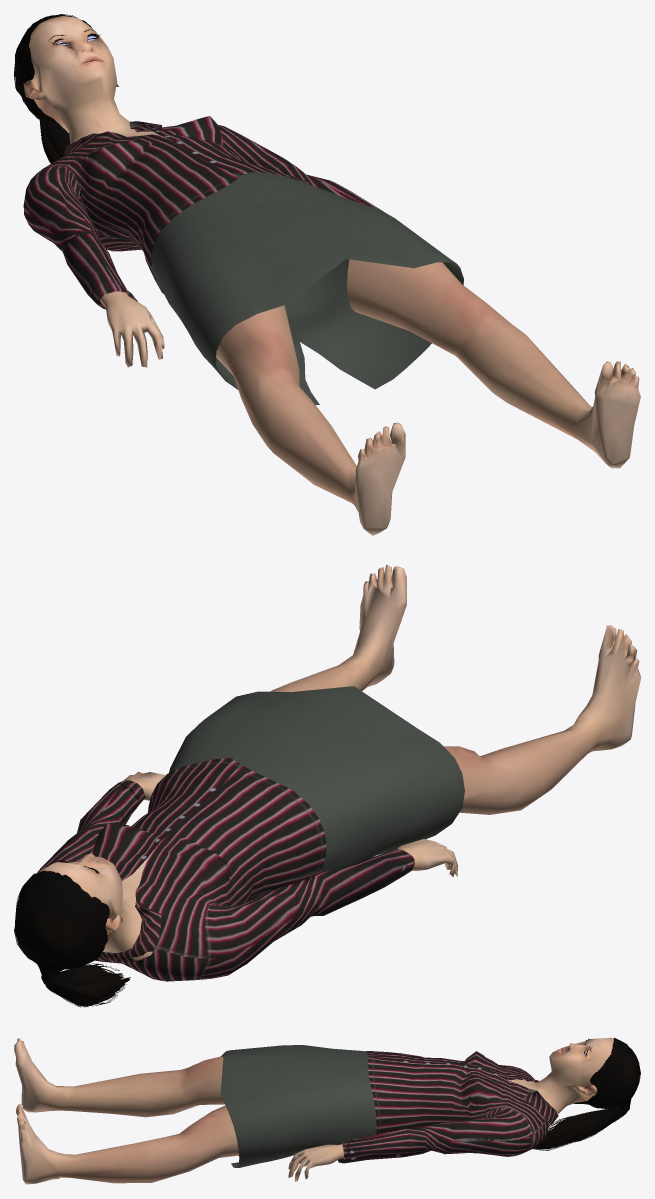
The model's file is person_meilin_lying.glb.
3 views of the same model, one above another, from view 1: azimuth 30°, elevation 25°; view 2: azimuth 150°, elevation 25°; view 3: azimuth 270°, elevation 25° (orthographic). The views are drawn at different scales.
Visible parts, largest first — view 1: lie_meiling_body.female_elegantsuit01, lie_meiling_body, lie_meiling_body.ponytail01; view 2: lie_meiling_body.female_elegantsuit01, lie_meiling_body, lie_meiling_body.ponytail01; view 3: lie_meiling_body.female_elegantsuit01, lie_meiling_body, lie_meiling_body.ponytail01.
Part boxes in pixels (x1,y1,x2,y2): lie_meiling_body.female_elegantsuit01: (23,116,463,404); lie_meiling_body: (23,16,640,535); lie_meiling_body.ponytail01: (14,14,92,163); lie_meiling_body.female_elegantsuit01: (36,686,464,981); lie_meiling_body: (36,564,640,960); lie_meiling_body.ponytail01: (14,870,130,1007); lie_meiling_body.female_elegantsuit01: (220,1045,558,1167); lie_meiling_body: (14,1037,613,1184); lie_meiling_body.ponytail01: (533,1038,640,1150).
Size of the model in its own units: 0.6057 by 0.3008 by 1.5.
Materials: 7 (7 with a texture image).
